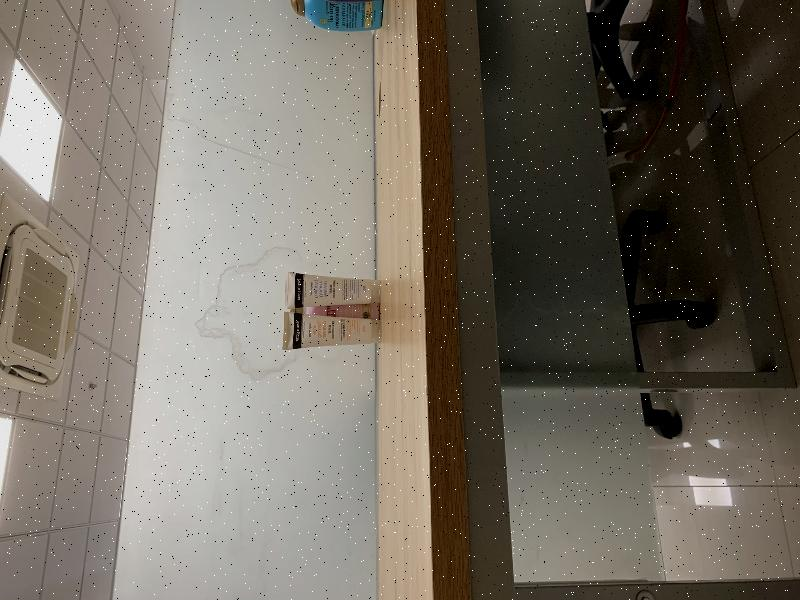AcneFoamingCleanser: (283, 312, 382, 350)
HydratingFoamingCleanser: (285, 272, 381, 308)
